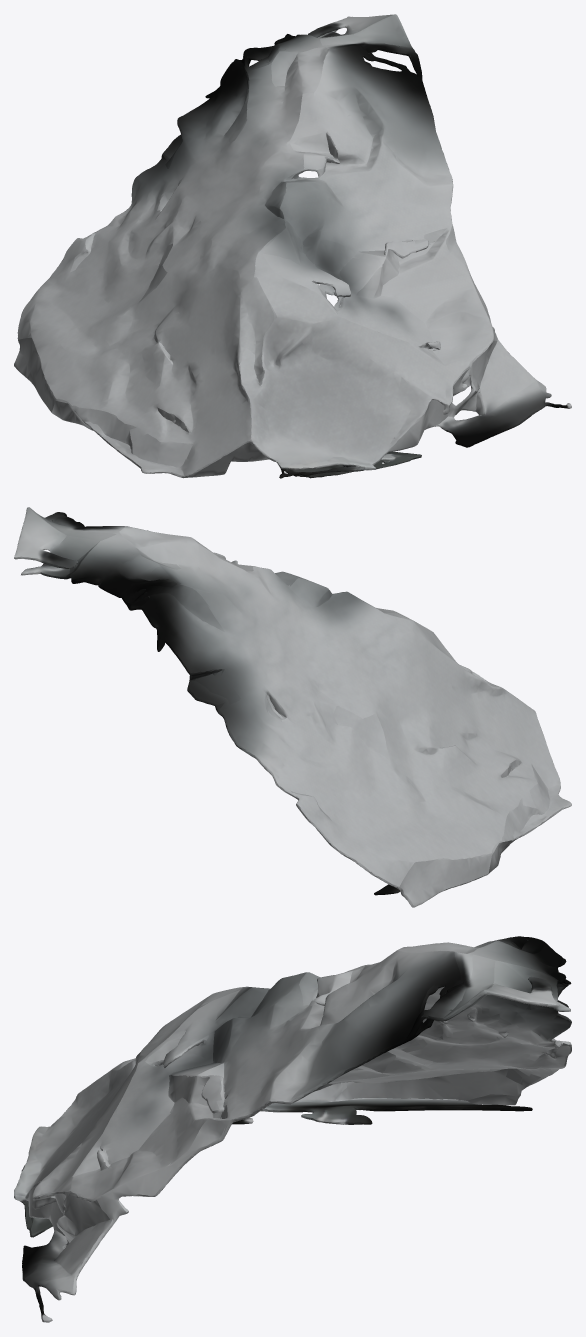
File: tex_mesh.glb
The picture shows the model from 3 angles, top to bottom: view 1: azimuth 30°, elevation 25°; view 2: azimuth 150°, elevation 25°; view 3: azimuth 270°, elevation 25°; orthographic projection. The views are drawn at different scales.
Visible parts, largest first — view 1: world; view 2: world; view 3: world.
Boxes of the visible parts, x1,y1,x2,y2 form: world: (14,14,571,478); world: (14,507,571,907); world: (14,936,571,1322).
Bounding box in the file's own units: 0.18 × 0.1229 × 0.1798.
Materials: 1 (1 with a texture image).
